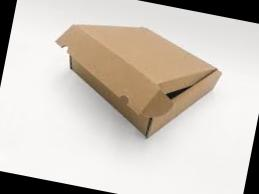Kertas: (55, 24, 220, 136), (56, 24, 219, 136)
